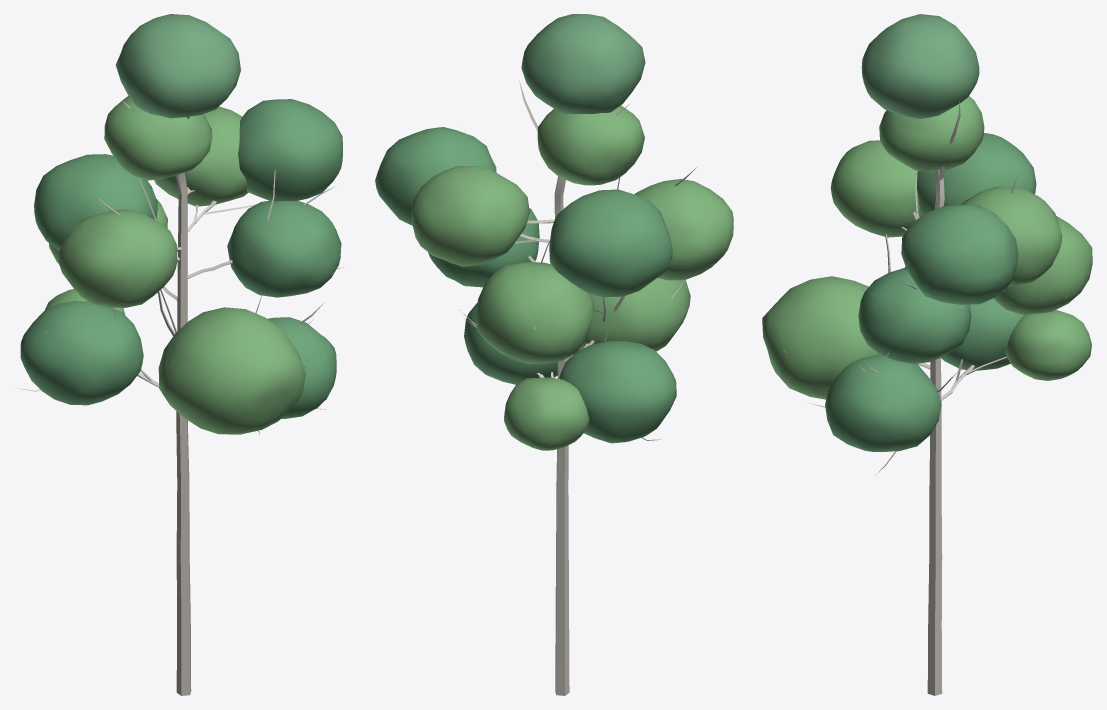
File: hybrid_birch.glb
The picture shows the model from 3 angles, left to right: view 1: azimuth 30°, elevation 25°; view 2: azimuth 150°, elevation 25°; view 3: azimuth 270°, elevation 25°; orthographic projection. The views are drawn at different scales.
Visible parts, largest first — view 1: hybrid_birch; view 2: hybrid_birch; view 3: hybrid_birch.
Part boxes in pixels (bbox=[...]): hybrid_birch: bbox=[15, 14, 343, 695]; hybrid_birch: bbox=[375, 14, 733, 695]; hybrid_birch: bbox=[762, 14, 1092, 695].
Size of the model in its own units: 6.15 by 13 by 5.87.
